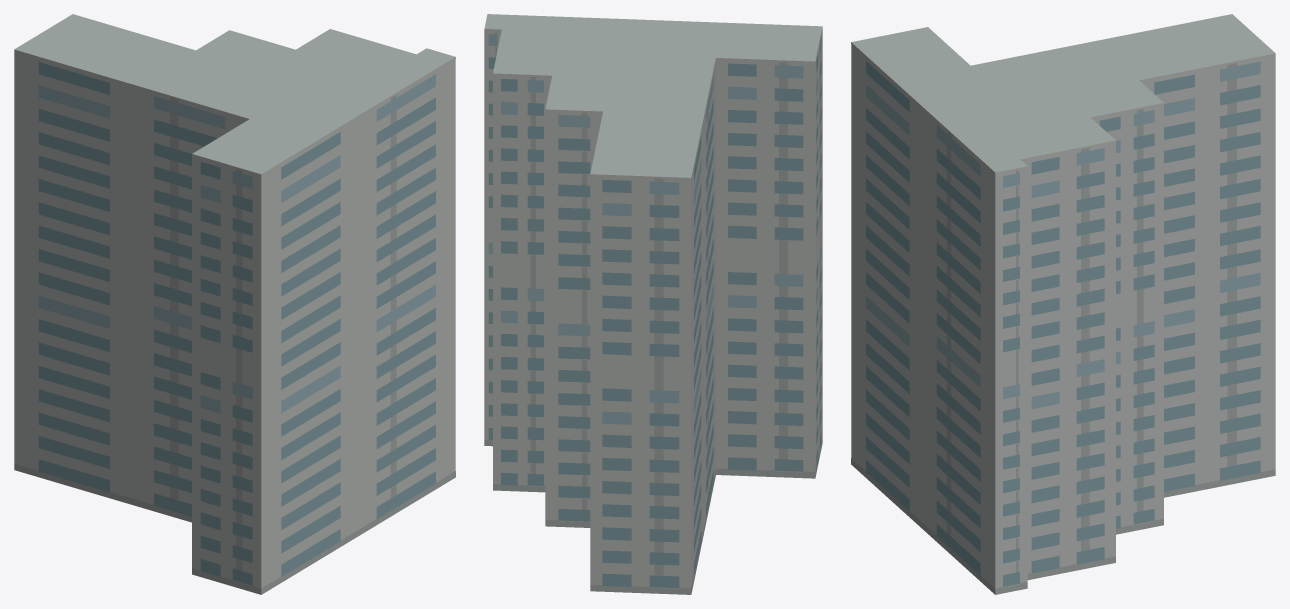
Rendered from residential-45fcdeb1-f4d5-43db-8fe0-674fd9181f6d.glb.
3 views of the same model, side by side, from view 1: azimuth 30°, elevation 25°; view 2: azimuth 150°, elevation 25°; view 3: azimuth 270°, elevation 25° (orthographic).
Parts seen in each view (by area): view 1: residential-45fcdeb1-f4d5-43db-8fe0-674fd9181f6d.tmp; view 2: residential-45fcdeb1-f4d5-43db-8fe0-674fd9181f6d.tmp; view 3: residential-45fcdeb1-f4d5-43db-8fe0-674fd9181f6d.tmp.
Boxes of the visible parts, x1,y1,x2,y2 form: residential-45fcdeb1-f4d5-43db-8fe0-674fd9181f6d.tmp: [14, 14, 455, 594]; residential-45fcdeb1-f4d5-43db-8fe0-674fd9181f6d.tmp: [484, 14, 822, 594]; residential-45fcdeb1-f4d5-43db-8fe0-674fd9181f6d.tmp: [851, 14, 1275, 594].
Bounding box in the file's own units: 41.88 × 52 × 47.39.
